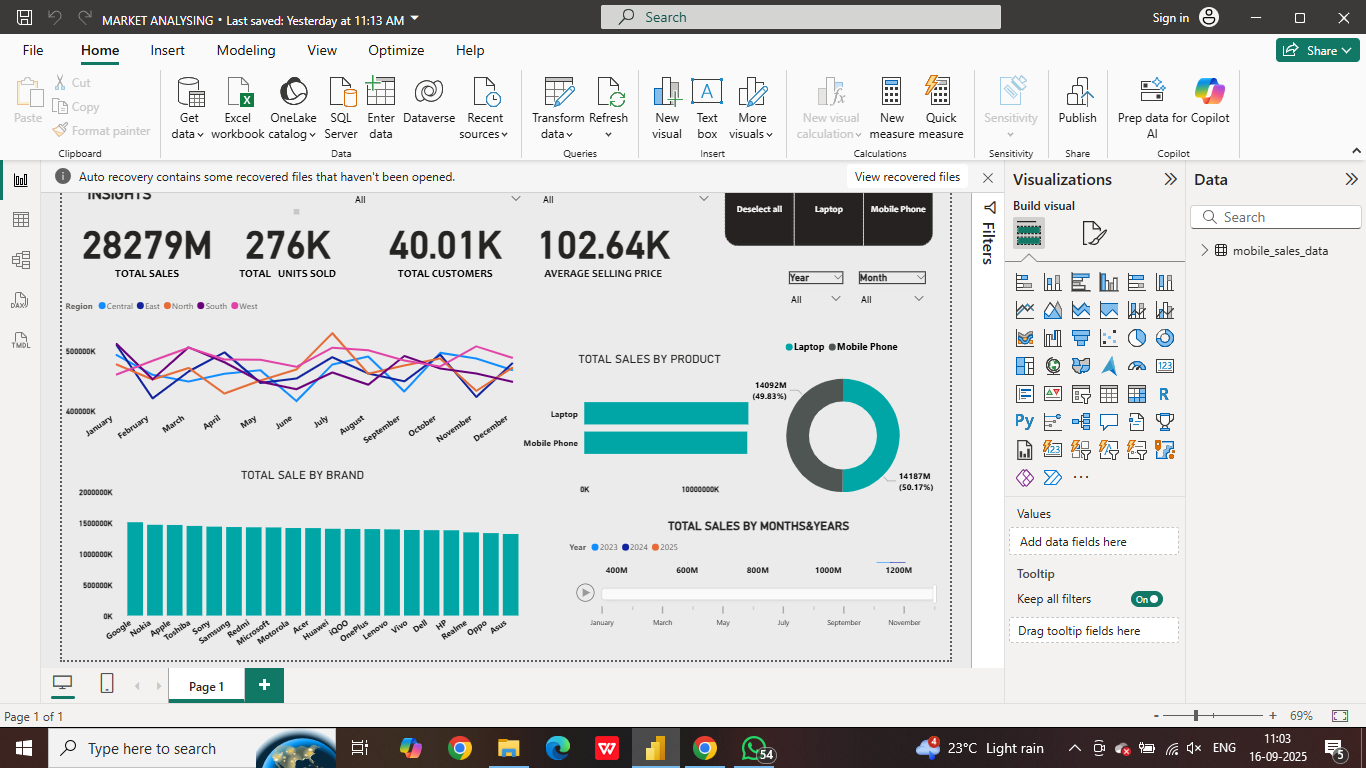

This screenshot's page, from the dashboard's own definition file:
{"tool":"powerbi","page":{"name":"Page 1","canvas":[1280,720],"ordinal":0},"visuals":[{"type":"card","fields":{"Values":["Avg(mobile_sales_data.Price)"]},"box":[657.4,71.4,242.4,106.3],"z":0},{"type":"card","fields":{"Values":["Sum(mobile_sales_data.Quantity Sold)"]},"box":[225.8,71.4,197.6,106.3],"z":1000},{"type":"card","fields":{"Values":["Count(mobile_sales_data.Customer Name)"]},"box":[446.6,71.4,210.8,106.3],"z":2000},{"type":"card","fields":{"Values":["mobile_sales_data.TOTAL SALE"]},"box":[18.3,71.4,207.5,106.3],"z":3000},{"type":"clusteredBarChart","title":"TOTAL SALES BY PRODUCT","fields":{"Y":["mobile_sales_data.TOTAL SALE"],"Category":["mobile_sales_data.Product"]},"box":[658.1,276.5,375.8,211.7],"z":4000},{"type":"donutChart","fields":{"Category":["mobile_sales_data.Product"],"Y":["mobile_sales_data.TOTAL SALE"]},"box":[969.1,249.1,311,266.4],"z":5000},{"type":"scatterChart","title":"TOTAL SALES BY MONTHS&YEARS","fields":{"X":["mobile_sales_data.TOTAL SALE"],"Play":["mobile_sales_data.Inward Date.Variation.Date Hierarchy.Month"],"Series":["mobile_sales_data.Inward Date.Variation.Date Hierarchy.Year"]},"box":[725.2,516.5,554.8,172.2],"z":6000},{"type":"advancedSlicerVisual","fields":{"Values":["mobile_sales_data.Product"]},"box":[928.7,12.2,351.3,118.3],"z":7000},{"type":"lineChart","fields":{"Y":["mobile_sales_data.TOTAL SALE"],"Series":["mobile_sales_data.Region"],"Category":["mobile_sales_data.Inward Date.Variation.Date Hierarchy.Month"]},"box":[0,190.1,673.9,239],"z":8000},{"type":"slicer","fields":{"Values":["mobile_sales_data.Brand"]},"box":[406.1,11.5,270.7,83.5],"z":9000},{"type":"slicer","fields":{"Values":["mobile_sales_data.Product"]},"box":[676.8,11.5,270.7,83.5],"z":10000},{"type":"slicer","fields":{"Values":["mobile_sales_data.Inward Date.Variation.Date Hierarchy.Year"]},"box":[1033.9,155.5,103.7,89.3],"z":11000},{"type":"slicer","fields":{"Values":["mobile_sales_data.Inward Date.Variation.Date Hierarchy.Month"]},"box":[1134.7,155.5,122.4,69.1],"z":12000},{"type":"columnChart","title":"TOTAL SALE BY BRAND","fields":{"Category":["mobile_sales_data.Brand"],"Y":["mobile_sales_data.TOTAL SALE"]},"box":[18.7,443.5,655.2,276.5],"z":13000},{"type":"textbox","title":"SMART  MARKET INSIGHTS","box":[31.7,11.5,315.4,72],"z":14000}]}

Visuals, with their boxes on the page's 1280x720 design canvas (x1, y1, x2, y2). These are canvas units, not pixel positions in the 1366x768 screenshot, which may show the page scaled, cropped or inside an application window:
card - Avg(mobile_sales_data.Price): x1=657 y1=71 x2=900 y2=178
card - Sum(mobile_sales_data.Quantity Sold): x1=226 y1=71 x2=423 y2=178
card - Count(mobile_sales_data.Customer Name): x1=447 y1=71 x2=657 y2=178
card - mobile_sales_data.TOTAL SALE: x1=18 y1=71 x2=226 y2=178
"TOTAL SALES BY PRODUCT" clusteredBarChart: x1=658 y1=276 x2=1034 y2=488
donutChart - mobile_sales_data.Product x mobile_sales_data.TOTAL SALE: x1=969 y1=249 x2=1280 y2=516
"TOTAL SALES BY MONTHS&YEARS" scatterChart: x1=725 y1=516 x2=1280 y2=689
advancedSlicerVisual - mobile_sales_data.Product: x1=929 y1=12 x2=1280 y2=130
lineChart - mobile_sales_data.TOTAL SALE x mobile_sales_data.Region: x1=0 y1=190 x2=674 y2=429
slicer - mobile_sales_data.Brand: x1=406 y1=12 x2=677 y2=95
slicer - mobile_sales_data.Product: x1=677 y1=12 x2=948 y2=95
slicer - mobile_sales_data.Inward Date.Variation.Date Hierarchy.Year: x1=1034 y1=156 x2=1138 y2=245
slicer - mobile_sales_data.Inward Date.Variation.Date Hierarchy.Month: x1=1135 y1=156 x2=1257 y2=225
"TOTAL SALE BY BRAND" columnChart: x1=19 y1=444 x2=674 y2=720
"SMART  MARKET INSIGHTS" textbox: x1=32 y1=12 x2=347 y2=84
